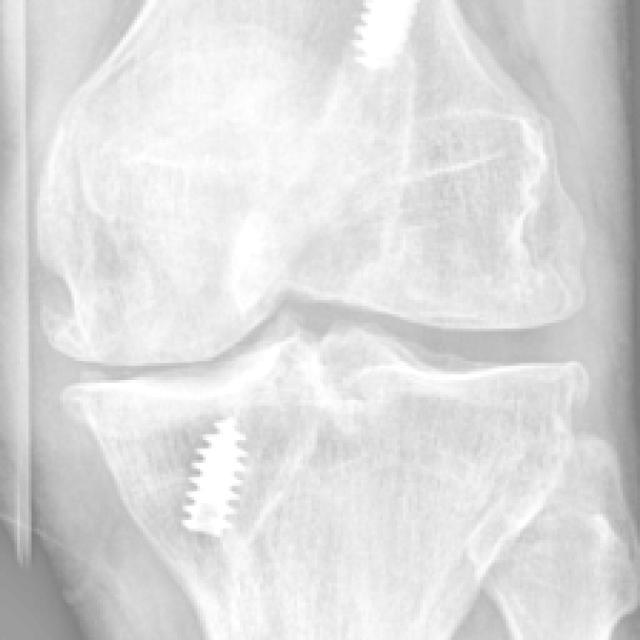femur: (37, 0, 586, 364)
tibia: (57, 327, 590, 640)
